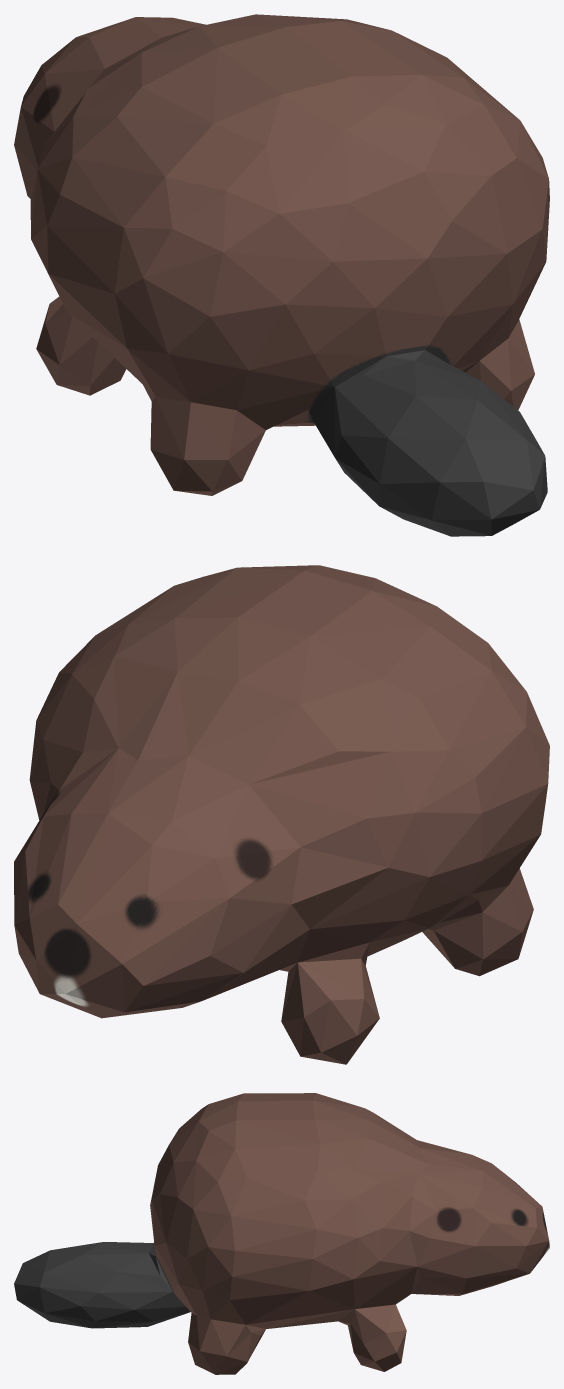
The model's file is animal_alphabeaver_blob.obj.
3 renders of one model, top to bottom at view 1: azimuth 30°, elevation 25°; view 2: azimuth 150°, elevation 25°; view 3: azimuth 270°, elevation 25°, orthographic. The views are drawn at different scales.
Parts seen in each view (by area): view 1: animal_alphabeaver_blob; view 2: animal_alphabeaver_blob; view 3: animal_alphabeaver_blob.
Part boxes in pixels (x1,y1,x2,y2): animal_alphabeaver_blob: [14, 14, 549, 536]; animal_alphabeaver_blob: [14, 565, 549, 1064]; animal_alphabeaver_blob: [14, 1093, 549, 1374].
Size of the model in its own units: 0.531 by 0.4313 by 0.9479.
